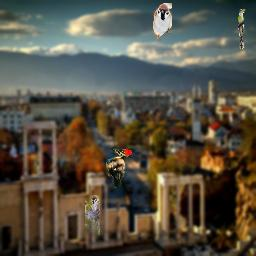Cuckoo: (238, 9, 246, 49)
Sparrow: (153, 3, 172, 43), (85, 195, 100, 235)
Woodpecker: (105, 148, 132, 188)
